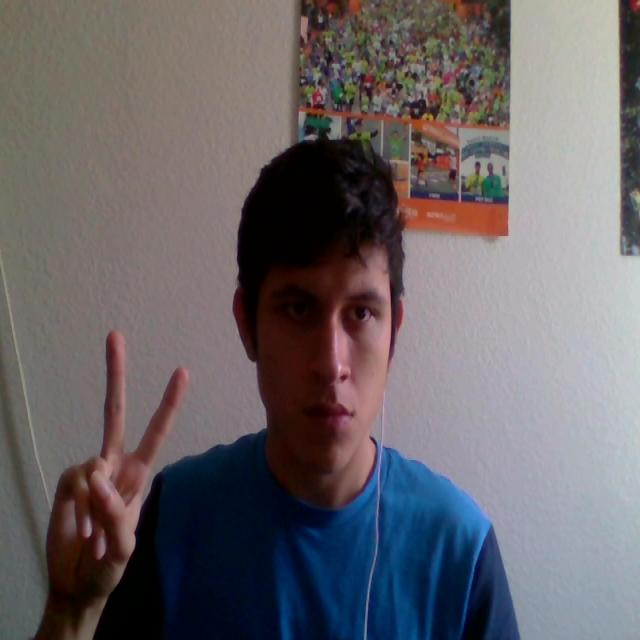V: (21, 287, 207, 631)
